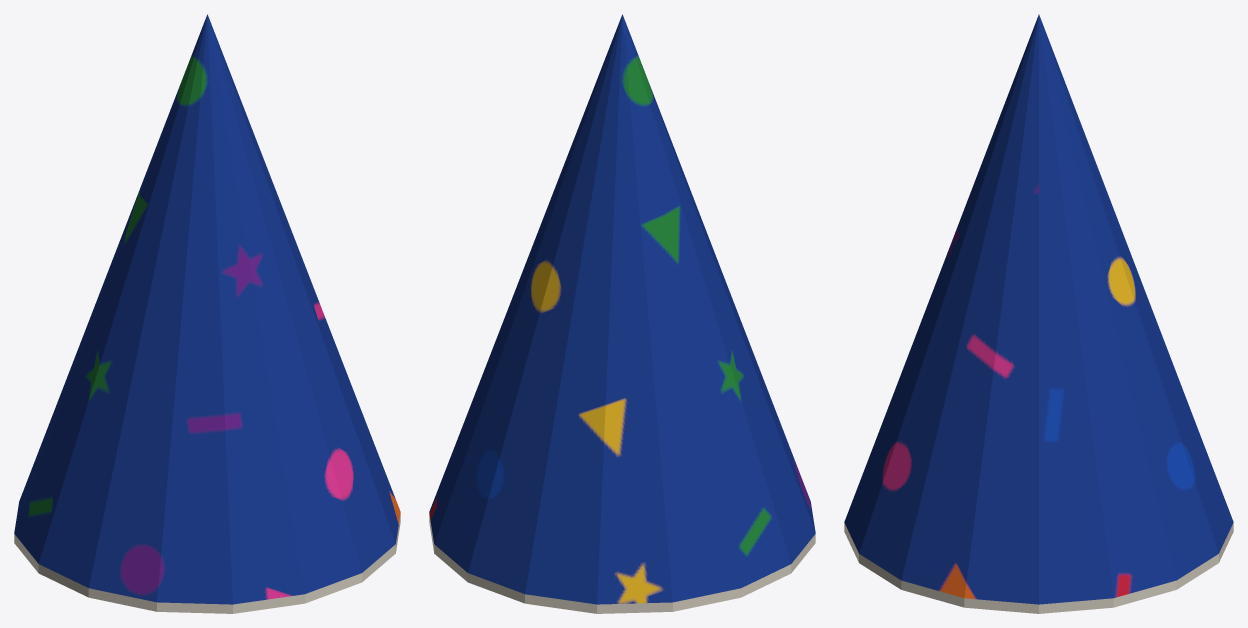
The model's file is party_hat_confetti.glb.
3 renders of one model, left to right at view 1: azimuth 30°, elevation 25°; view 2: azimuth 150°, elevation 25°; view 3: azimuth 270°, elevation 25°, orthographic.
Visible parts, largest first — view 1: party_hat_confetti; view 2: party_hat_confetti; view 3: party_hat_confetti.
Boxes of the visible parts, <box> form: party_hat_confetti: <box>14,14,400,613</box>; party_hat_confetti: <box>429,14,815,613</box>; party_hat_confetti: <box>844,14,1233,613</box>.
Bounding box in the file's own units: 0.15 × 0.22 × 0.15.
2 materials, 2 textured.
